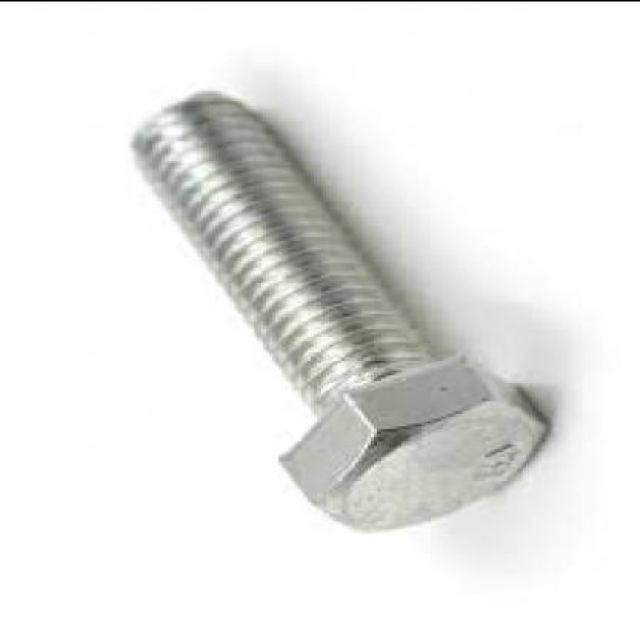METAL: (127, 87, 545, 527)
